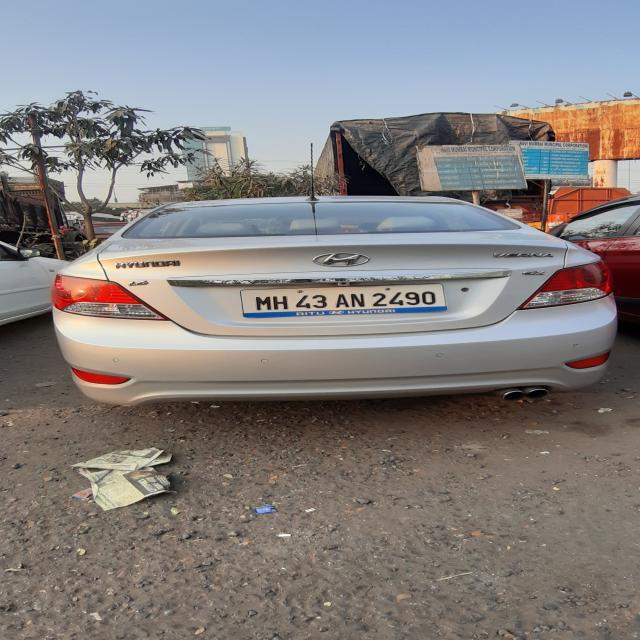Number-Plate: (245, 290, 446, 310)
